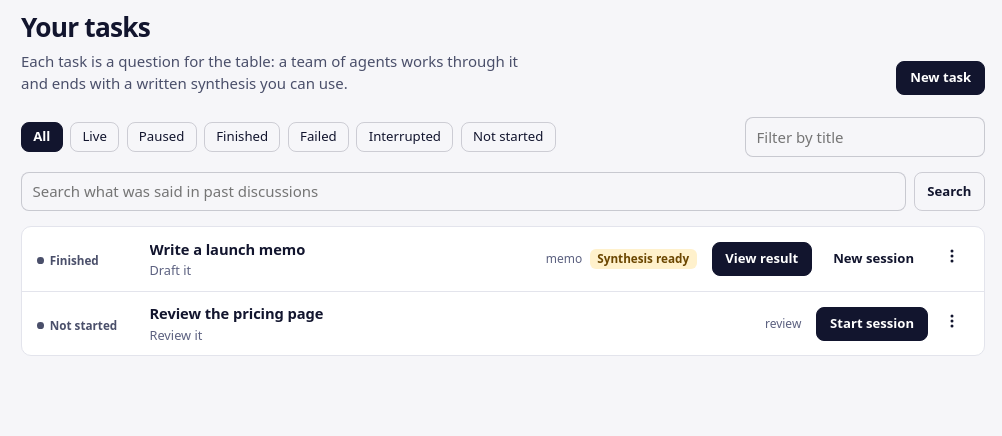
Test case: TaskBoard transcript search › searches past discussions, shows snippets as text with the match marked, and links to the room
Check: the heading "Review the pricing page" is shown, box [150, 303, 323, 323]
In the search field named "search past discussions": {"x": 464, "y": 191} [21, 172, 906, 211], type "indemnity"
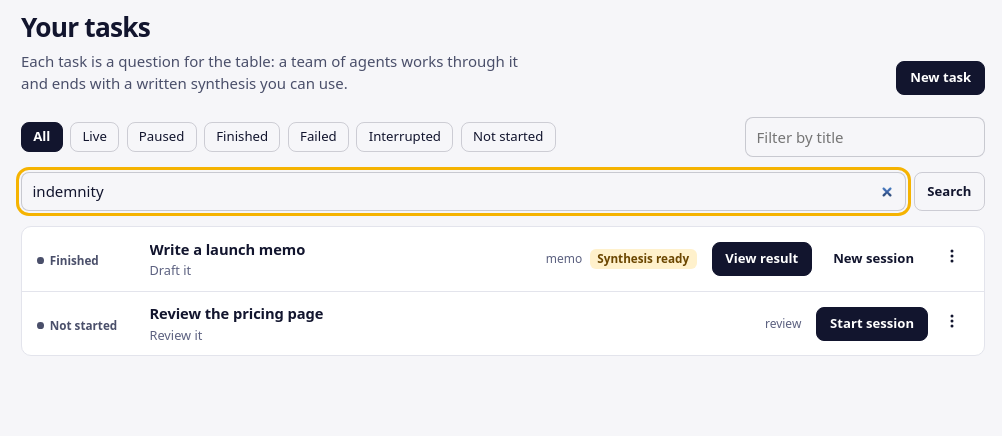
Click the button "Search": {"x": 949, "y": 191} [914, 172, 985, 211]
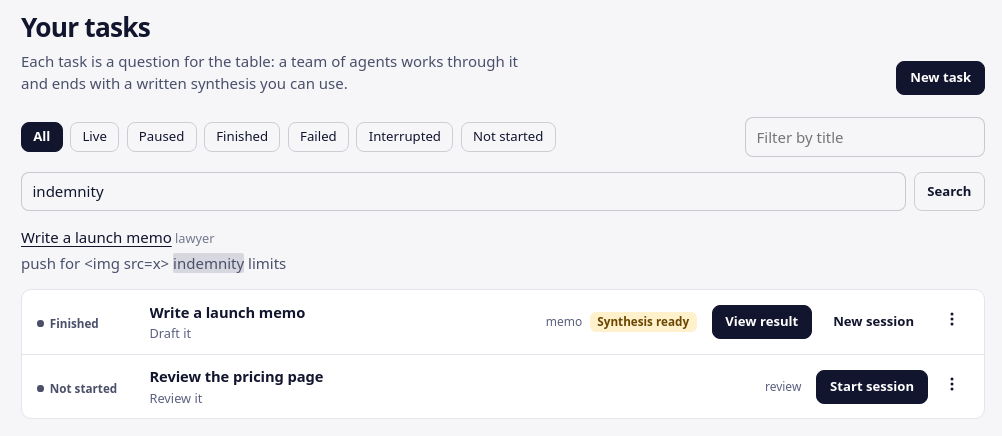
Check: the text "indemnity" is shown, box [173, 253, 244, 273]
Check: the element named "search results" shows "<img src=x>", box [21, 253, 173, 273]
